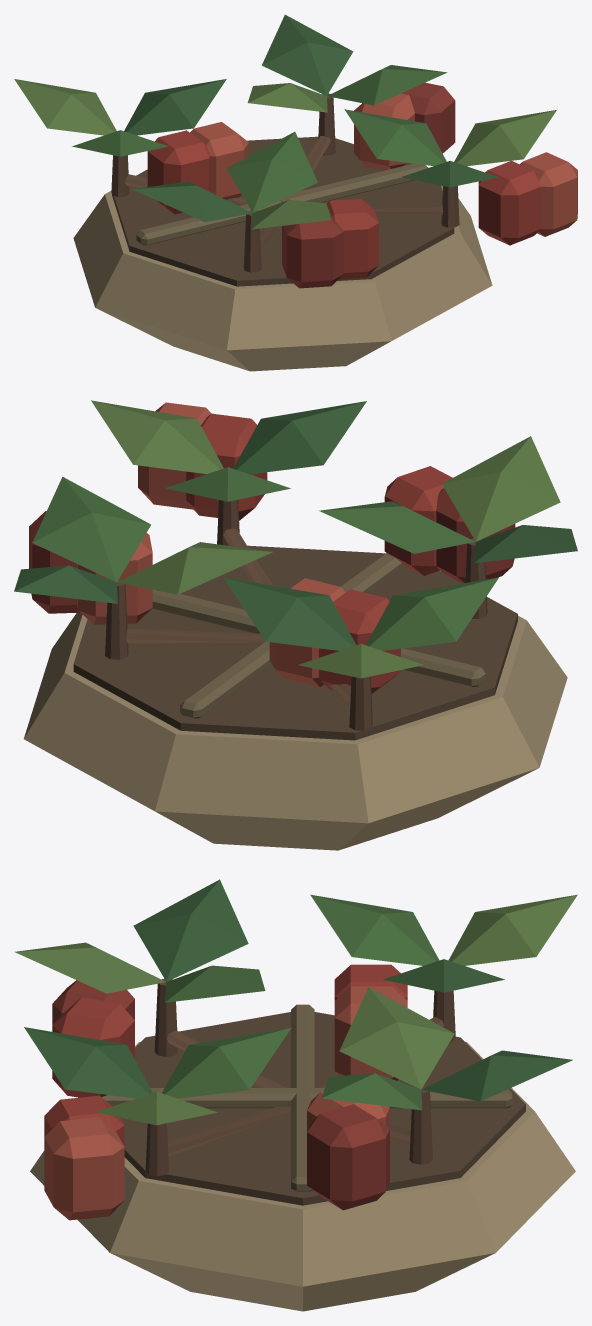
The model's file is wild_strawberry_packed_summer.glb.
3 renders of one model, top to bottom at view 1: azimuth 30°, elevation 25°; view 2: azimuth 150°, elevation 25°; view 3: azimuth 270°, elevation 25°, orthographic. The views are drawn at different scales.
Visible parts, largest first — view 1: wild_strawberry_packed_summer; view 2: wild_strawberry_packed_summer; view 3: wild_strawberry_packed_summer.
Boxes of the visible parts, x1,y1,x2,y2 form: wild_strawberry_packed_summer: [14, 14, 577, 371]; wild_strawberry_packed_summer: [14, 400, 577, 850]; wild_strawberry_packed_summer: [15, 879, 577, 1311].
Size of the model in its own units: 1.29 by 0.61 by 1.24.
